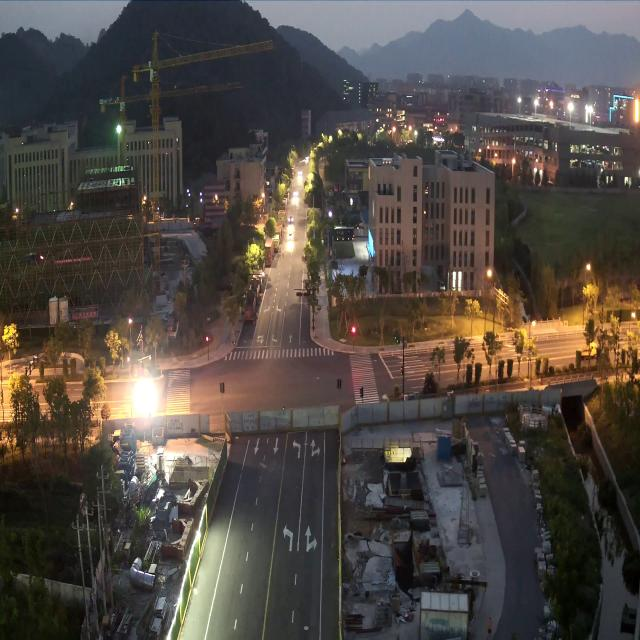drone: (18, 252, 44, 264)
